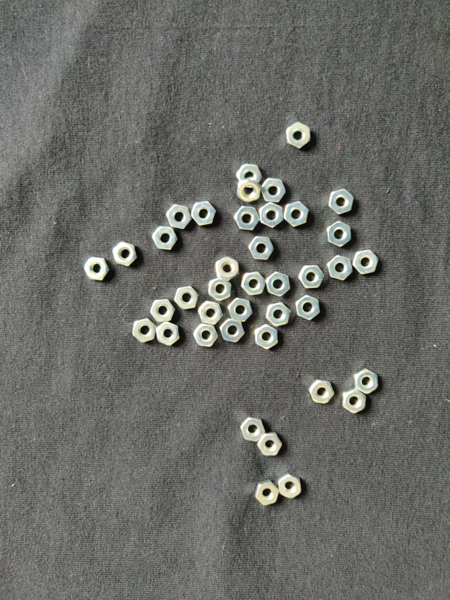nut: (284, 201, 310, 227), (234, 206, 261, 231), (327, 221, 352, 248), (353, 250, 380, 275), (329, 189, 354, 215), (259, 202, 284, 228), (296, 295, 321, 321), (266, 302, 292, 327), (287, 122, 311, 149), (261, 178, 286, 203), (328, 256, 353, 281), (266, 272, 291, 297), (220, 318, 245, 343), (241, 417, 266, 442), (241, 272, 267, 296), (174, 286, 200, 310), (228, 299, 254, 323), (150, 299, 176, 323), (255, 324, 279, 350), (193, 324, 219, 348), (298, 265, 325, 288), (355, 368, 378, 395), (191, 202, 216, 226), (237, 178, 262, 202), (167, 205, 192, 229), (113, 242, 137, 267), (216, 257, 240, 282), (132, 319, 157, 343), (343, 389, 367, 414), (310, 380, 335, 404), (278, 474, 302, 499), (255, 481, 279, 506), (152, 227, 178, 250), (249, 237, 275, 260), (84, 257, 110, 280), (257, 433, 283, 456), (199, 301, 223, 325), (156, 323, 180, 347), (209, 278, 232, 301), (237, 163, 262, 183)
